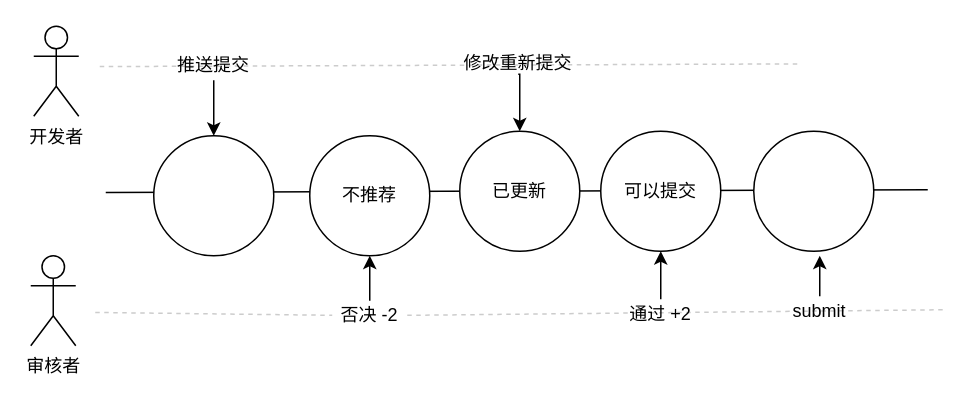
Image size: 971x404. Some labels were removed from this diagram. Each missing label, with the box of its shape:
已合并: (752, 130, 874, 251)
等待Review: (152, 134, 274, 256)
